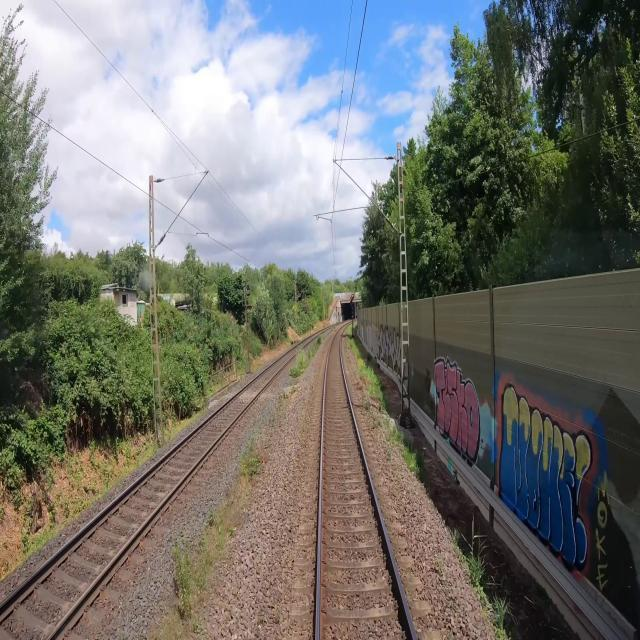Plant: (149, 436, 272, 639), (287, 341, 307, 379), (357, 361, 375, 396), (308, 333, 326, 359), (278, 386, 297, 404), (361, 394, 372, 412), (272, 604, 280, 625), (373, 416, 383, 431), (386, 448, 393, 460)
